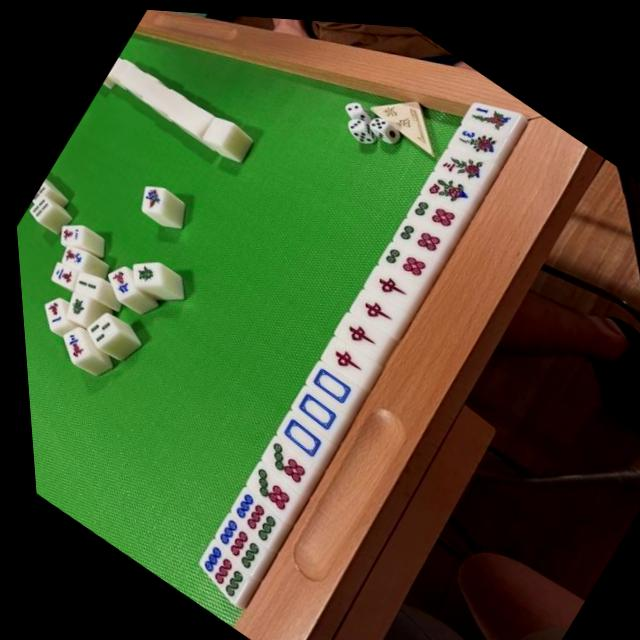bf1: (463, 86, 516, 132)
bf3: (448, 107, 504, 158)
bs3: (433, 131, 492, 186)
bs4: (418, 158, 476, 210)
hdr: (317, 332, 368, 378), (363, 259, 412, 303), (348, 285, 397, 328), (333, 309, 380, 351)
hdw: (282, 381, 341, 434), (300, 357, 354, 404), (270, 410, 322, 457)
sd6: (376, 233, 431, 282), (392, 209, 447, 257), (408, 185, 460, 232)
sd7: (234, 458, 292, 513), (249, 432, 307, 485)
sd9: (200, 511, 261, 569), (185, 540, 246, 598), (218, 485, 278, 541)
